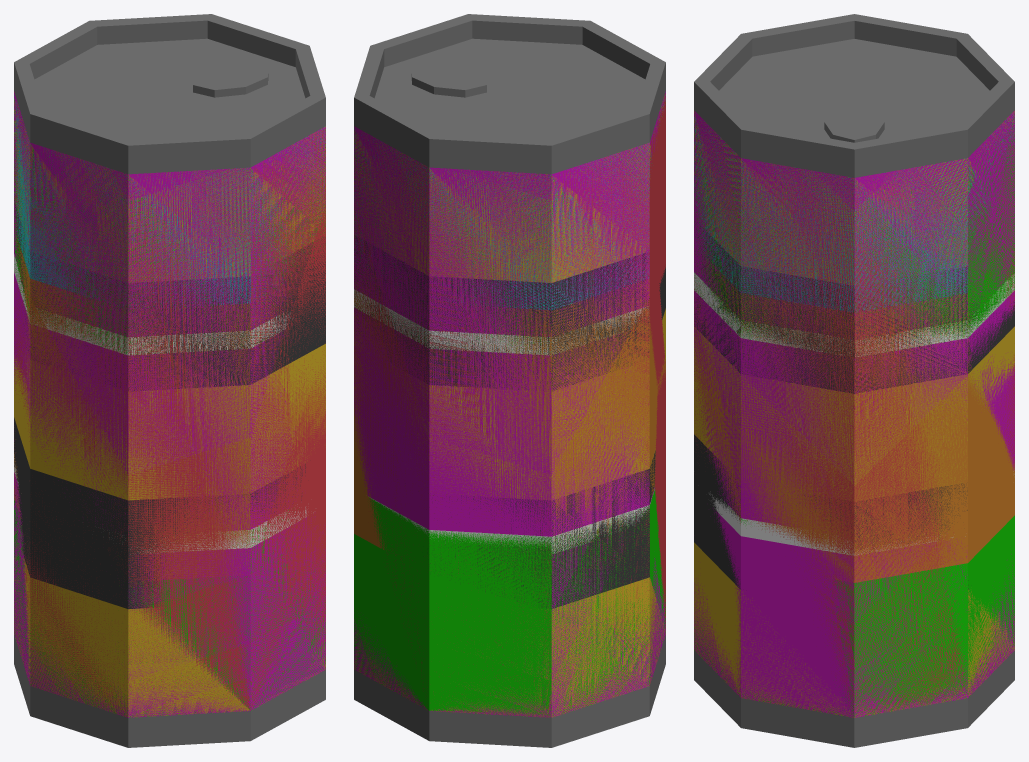
File: Cola Can.fbx
3 views of the same model, side by side, from view 1: azimuth 30°, elevation 25°; view 2: azimuth 150°, elevation 25°; view 3: azimuth 270°, elevation 25° (orthographic).
Parts seen in each view (by area): view 1: Cola Can 5, Cola Can 1, Cola Can 4, Cola Can 3, Cola Can 2; view 2: Cola Can 5, Cola Can 4, Cola Can 3, Cola Can 2, Cola Can 1; view 3: Cola Can 5, Cola Can 3, Cola Can 4, Cola Can 1, Cola Can 2.
Boxes of the visible parts, x1,y1,x2,y2 form: Cola Can 5: (14,14,325,747); Cola Can 1: (14,111,325,716); Cola Can 4: (14,92,325,717); Cola Can 3: (14,95,325,717); Cola Can 2: (14,100,325,716); Cola Can 5: (354,14,665,747); Cola Can 4: (354,94,665,717); Cola Can 3: (354,92,665,716); Cola Can 2: (354,104,665,717); Cola Can 1: (354,94,665,715); Cola Can 5: (694,14,1014,747); Cola Can 3: (694,114,1014,717); Cola Can 4: (694,111,1014,717); Cola Can 1: (694,115,1014,717); Cola Can 2: (694,113,1014,716).
Size of the model in its own units: 24 by 49.4 by 24.
